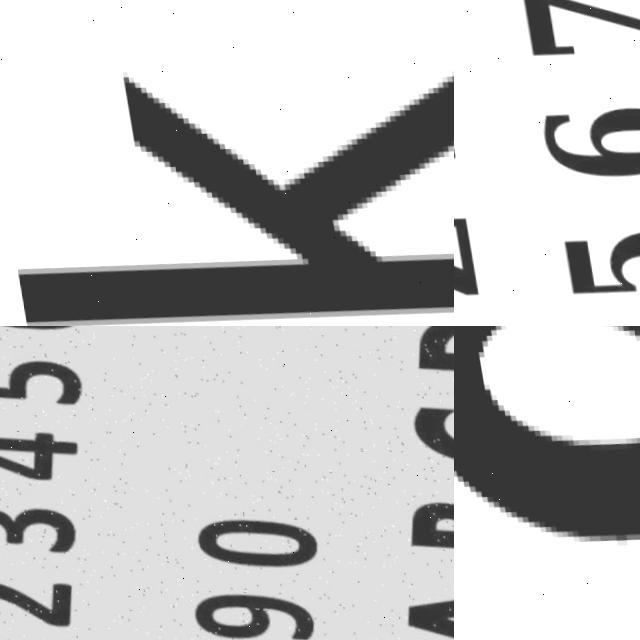0: (155, 478, 326, 602)
2: (0, 546, 78, 640)
3: (0, 470, 85, 588)
4: (0, 393, 87, 512)
5: (0, 326, 109, 441), (543, 212, 640, 314)
6: (497, 81, 640, 192), (0, 326, 119, 374)
7: (485, 0, 640, 65)
9: (454, 326, 640, 598), (151, 549, 328, 640)
K: (0, 12, 454, 326)
